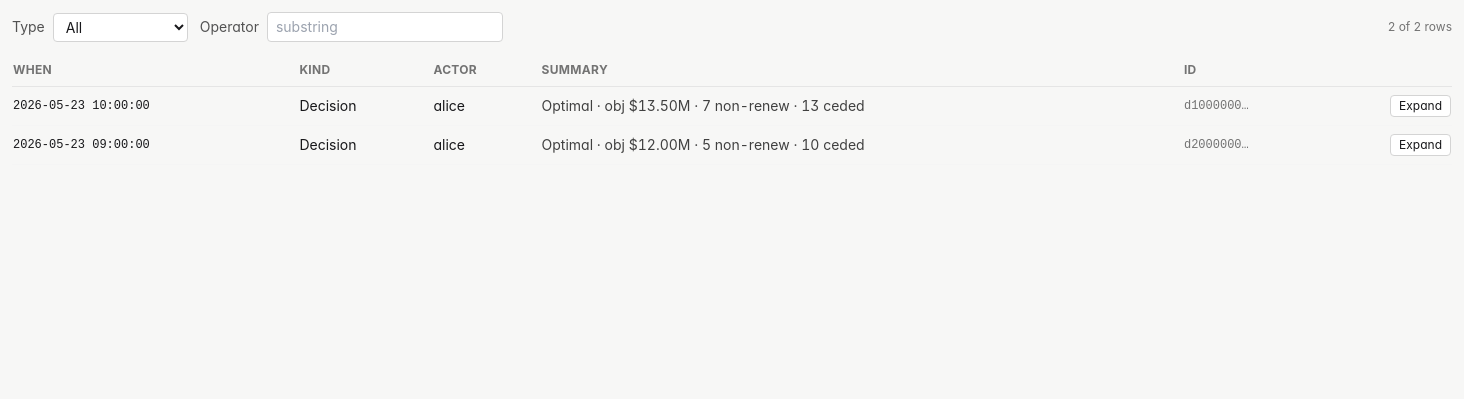
Test case: <AuditLedger /> › expanding a decision row reveals the budget + objective deltas vs the previous decision
# Click expand on the newer decision.
Click the button "Expand" in the row of "2026-05-23 10:00:00".
click(1421, 106)  # box [1390,95,1451,117]
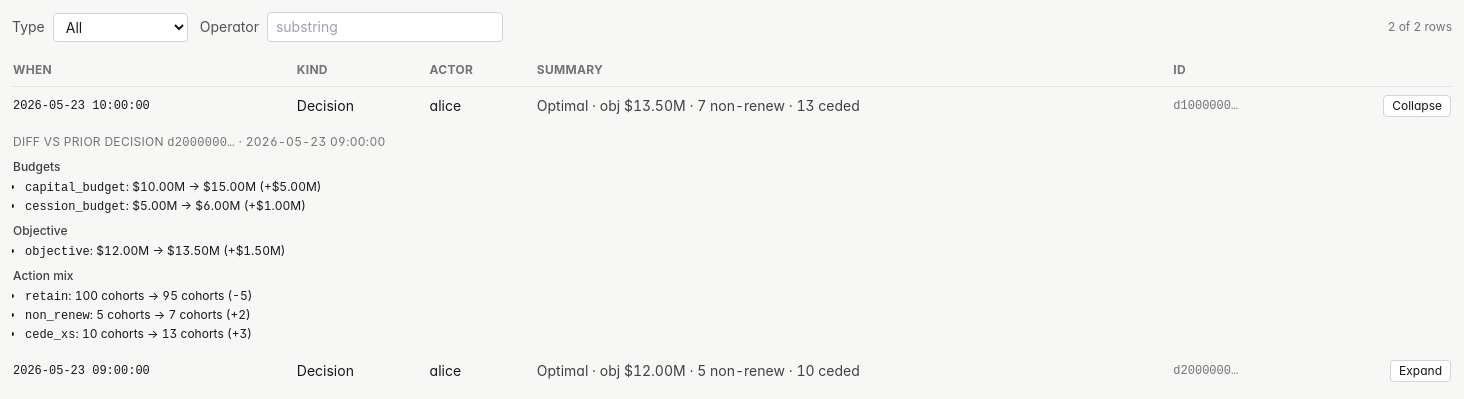
Expected: the text "capital_budget" is shown, [25,181,126,195]
Expected: the text "cession_budget" is shown, [25,200,126,214]
Expected: the text "Objective" is shown, [13,223,68,238]
